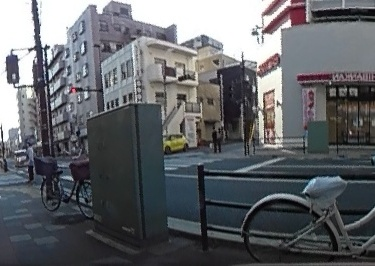person: (24, 139, 35, 181), (210, 126, 223, 153)
